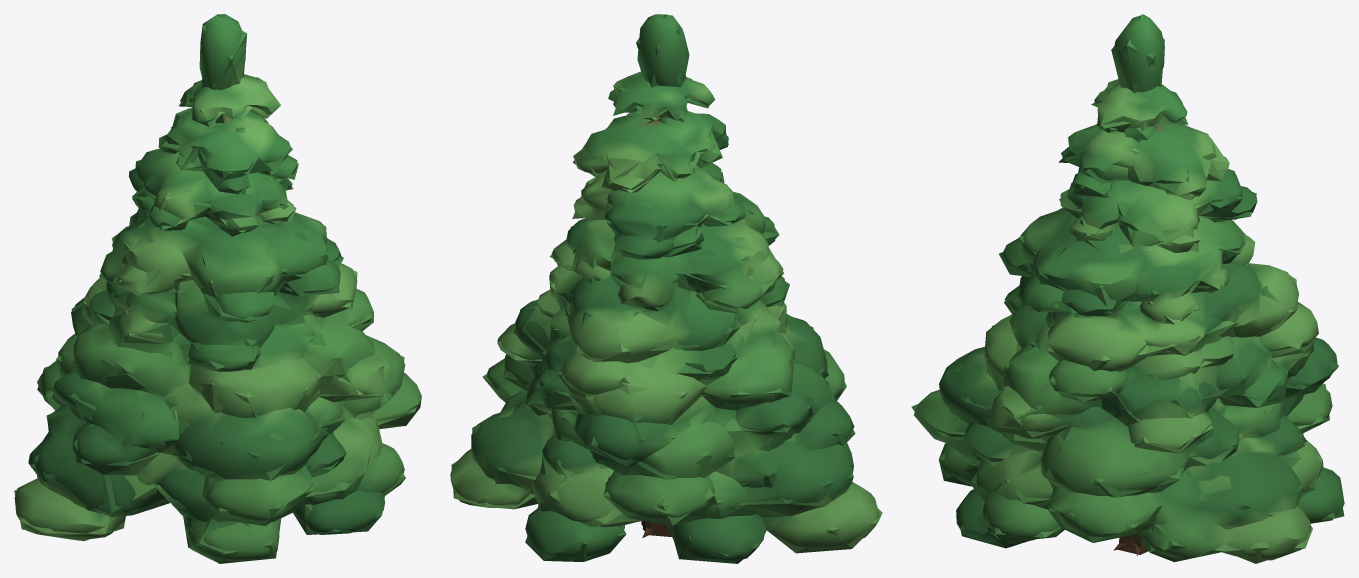
File: pine_mature_tall_straight_dense.glb
3 renders of one model, left to right at view 1: azimuth 30°, elevation 25°; view 2: azimuth 150°, elevation 25°; view 3: azimuth 270°, elevation 25°, orthographic. The views are drawn at different scales.
Parts seen in each view (by area): view 1: pine_mature_tall_straight_dense_LOD1, pine_mature_tall_straight_dense_LOD2; view 2: pine_mature_tall_straight_dense_LOD1, pine_mature_tall_straight_dense_LOD2; view 3: pine_mature_tall_straight_dense_LOD1, pine_mature_tall_straight_dense_LOD2.
Boxes of the visible parts, x1,y1,x2,y2 form: pine_mature_tall_straight_dense_LOD1: (14, 14, 421, 561); pine_mature_tall_straight_dense_LOD2: (14, 15, 421, 563); pine_mature_tall_straight_dense_LOD1: (450, 14, 879, 561); pine_mature_tall_straight_dense_LOD2: (451, 14, 882, 563); pine_mature_tall_straight_dense_LOD1: (914, 14, 1344, 560); pine_mature_tall_straight_dense_LOD2: (911, 14, 1344, 563).
Size of the model in its own units: 6.08 by 7.6 by 5.65.
